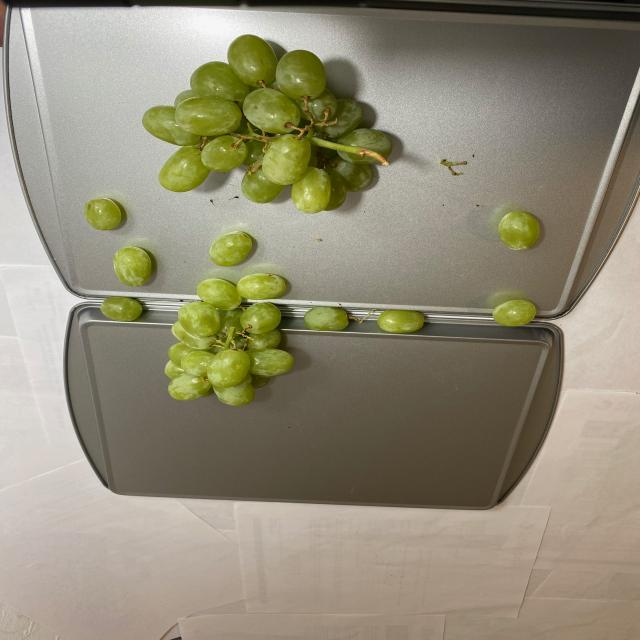Grapes: (94, 39, 388, 403), (489, 212, 541, 329)
